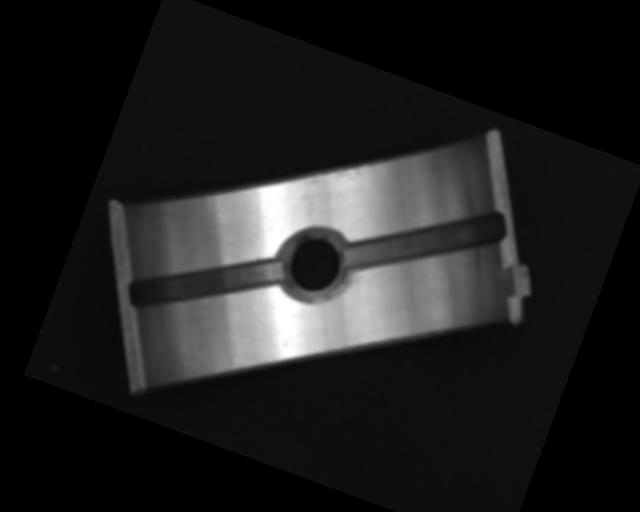gap: (341, 164, 512, 314), (125, 216, 288, 352)
hole: (273, 223, 353, 312)
